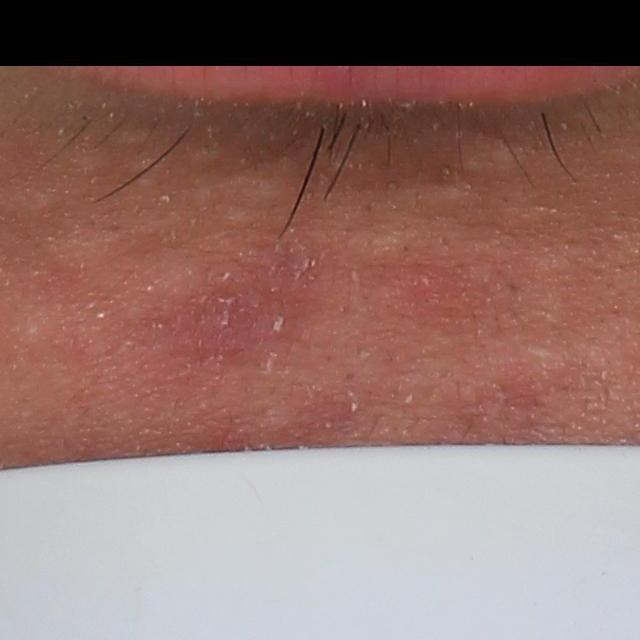hypertrophic_scar: (405, 174, 489, 222), (452, 139, 533, 180), (350, 229, 413, 262), (130, 154, 170, 187), (213, 208, 265, 230), (108, 128, 154, 149), (191, 141, 223, 164)
